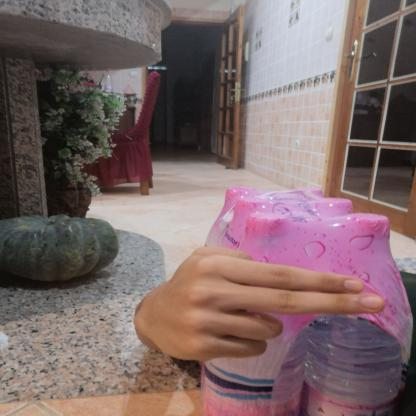AYN: (124, 244, 400, 376)
